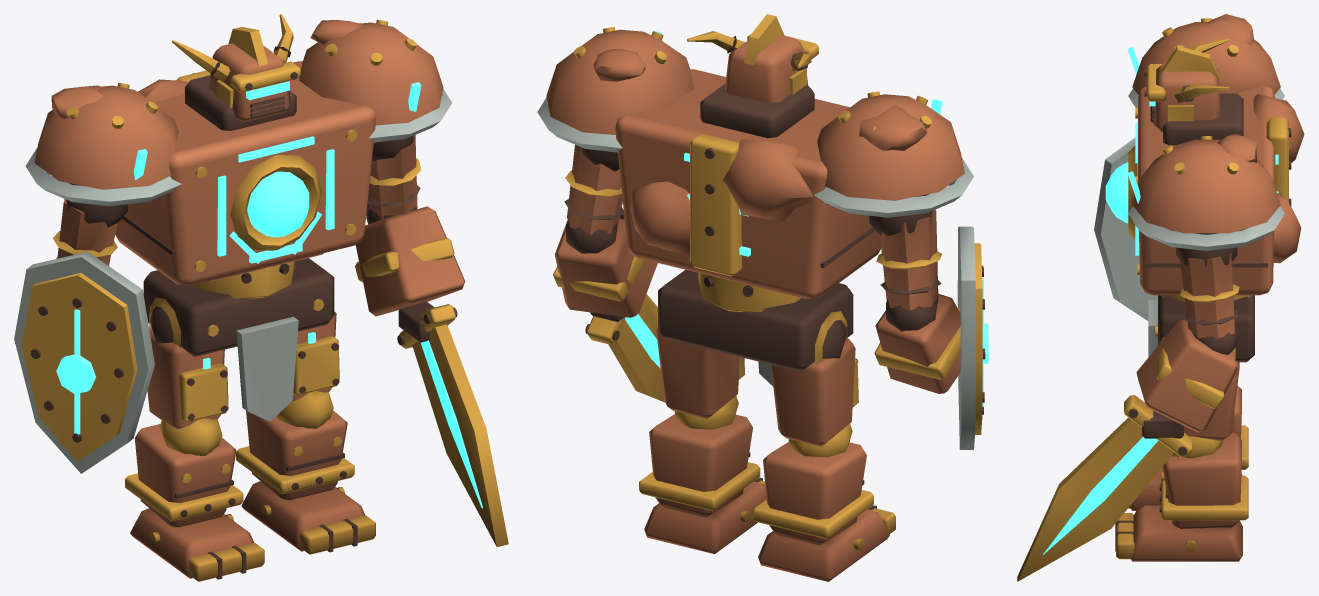
File: vaultsentinel.glb
The picture shows the model from 3 angles, left to right: view 1: azimuth 30°, elevation 25°; view 2: azimuth 150°, elevation 25°; view 3: azimuth 270°, elevation 25°; orthographic projection. The views are drawn at different scales.
Visible parts, largest first — view 1: Chest, Pauldron, Shield, Pelvis, Shield_rim, Forearm, Blade, Shin, Tabard, Shin.001, Upper_arm, Pauldron_band (+34 smaller); view 2: Chest, Pauldron, Crust, Pelvis, Forearm, Upper_arm, Shin, Shin.001, Thigh, Spine, Thigh.001, Foot (+23 smaller); view 3: Pauldron, Blade, Chest, Forearm, Shin.001, Foot.001, Shield_rim, Crust, Upper_arm, Pauldron_band, Head, Collar (+22 smaller).
Boxes of the visible parts, <box> form: Chest: <box>115,61,375,285</box>; Pauldron: <box>34,22,443,189</box>; Shield: <box>21,273,137,461</box>; Pelvis: <box>143,258,334,356</box>; Shield_rim: <box>14,252,154,473</box>; Forearm: <box>355,206,465,316</box>; Blade: <box>412,324,508,546</box>; Shin: <box>134,424,236,527</box>; Tabard: <box>236,316,298,421</box>; Shin.001: <box>246,410,347,500</box>; Upper_arm: <box>57,135,417,265</box>; Pauldron_band: <box>25,89,452,206</box>; Chest: <box>615,69,881,298</box>; Pauldron: <box>546,29,964,200</box>; Crust: <box>593,49,927,254</box>; Pelvis: <box>658,269,853,371</box>; Forearm: <box>554,217,960,393</box>; Upper_arm: <box>567,144,938,309</box>; Shin: <box>763,442,866,545</box>; Shin.001: <box>649,414,752,517</box>; Thigh: <box>771,338,855,446</box>; Spine: <box>690,133,741,276</box>; Thigh.001: <box>656,328,739,418</box>; Foot: <box>758,509,889,581</box>; Pauldron: <box>1132,22,1280,233</box>; Blade: <box>1017,417,1173,581</box>; Chest: <box>1138,85,1275,295</box>; Forearm: <box>1136,319,1237,432</box>; Shin.001: <box>1162,432,1241,528</box>; Foot.001: <box>1131,505,1242,561</box>; Shield_rim: <box>1094,137,1157,320</box>; Crust: <box>1205,14,1304,263</box>; Upper_arm: <box>1180,253,1234,338</box>; Pauldron_band: <box>1128,88,1284,250</box>; Head: <box>1153,62,1220,131</box>; Collar: <box>1163,93,1243,145</box>.
Bounding box in the file's own units: 2.81 × 3.23 × 1.78.
